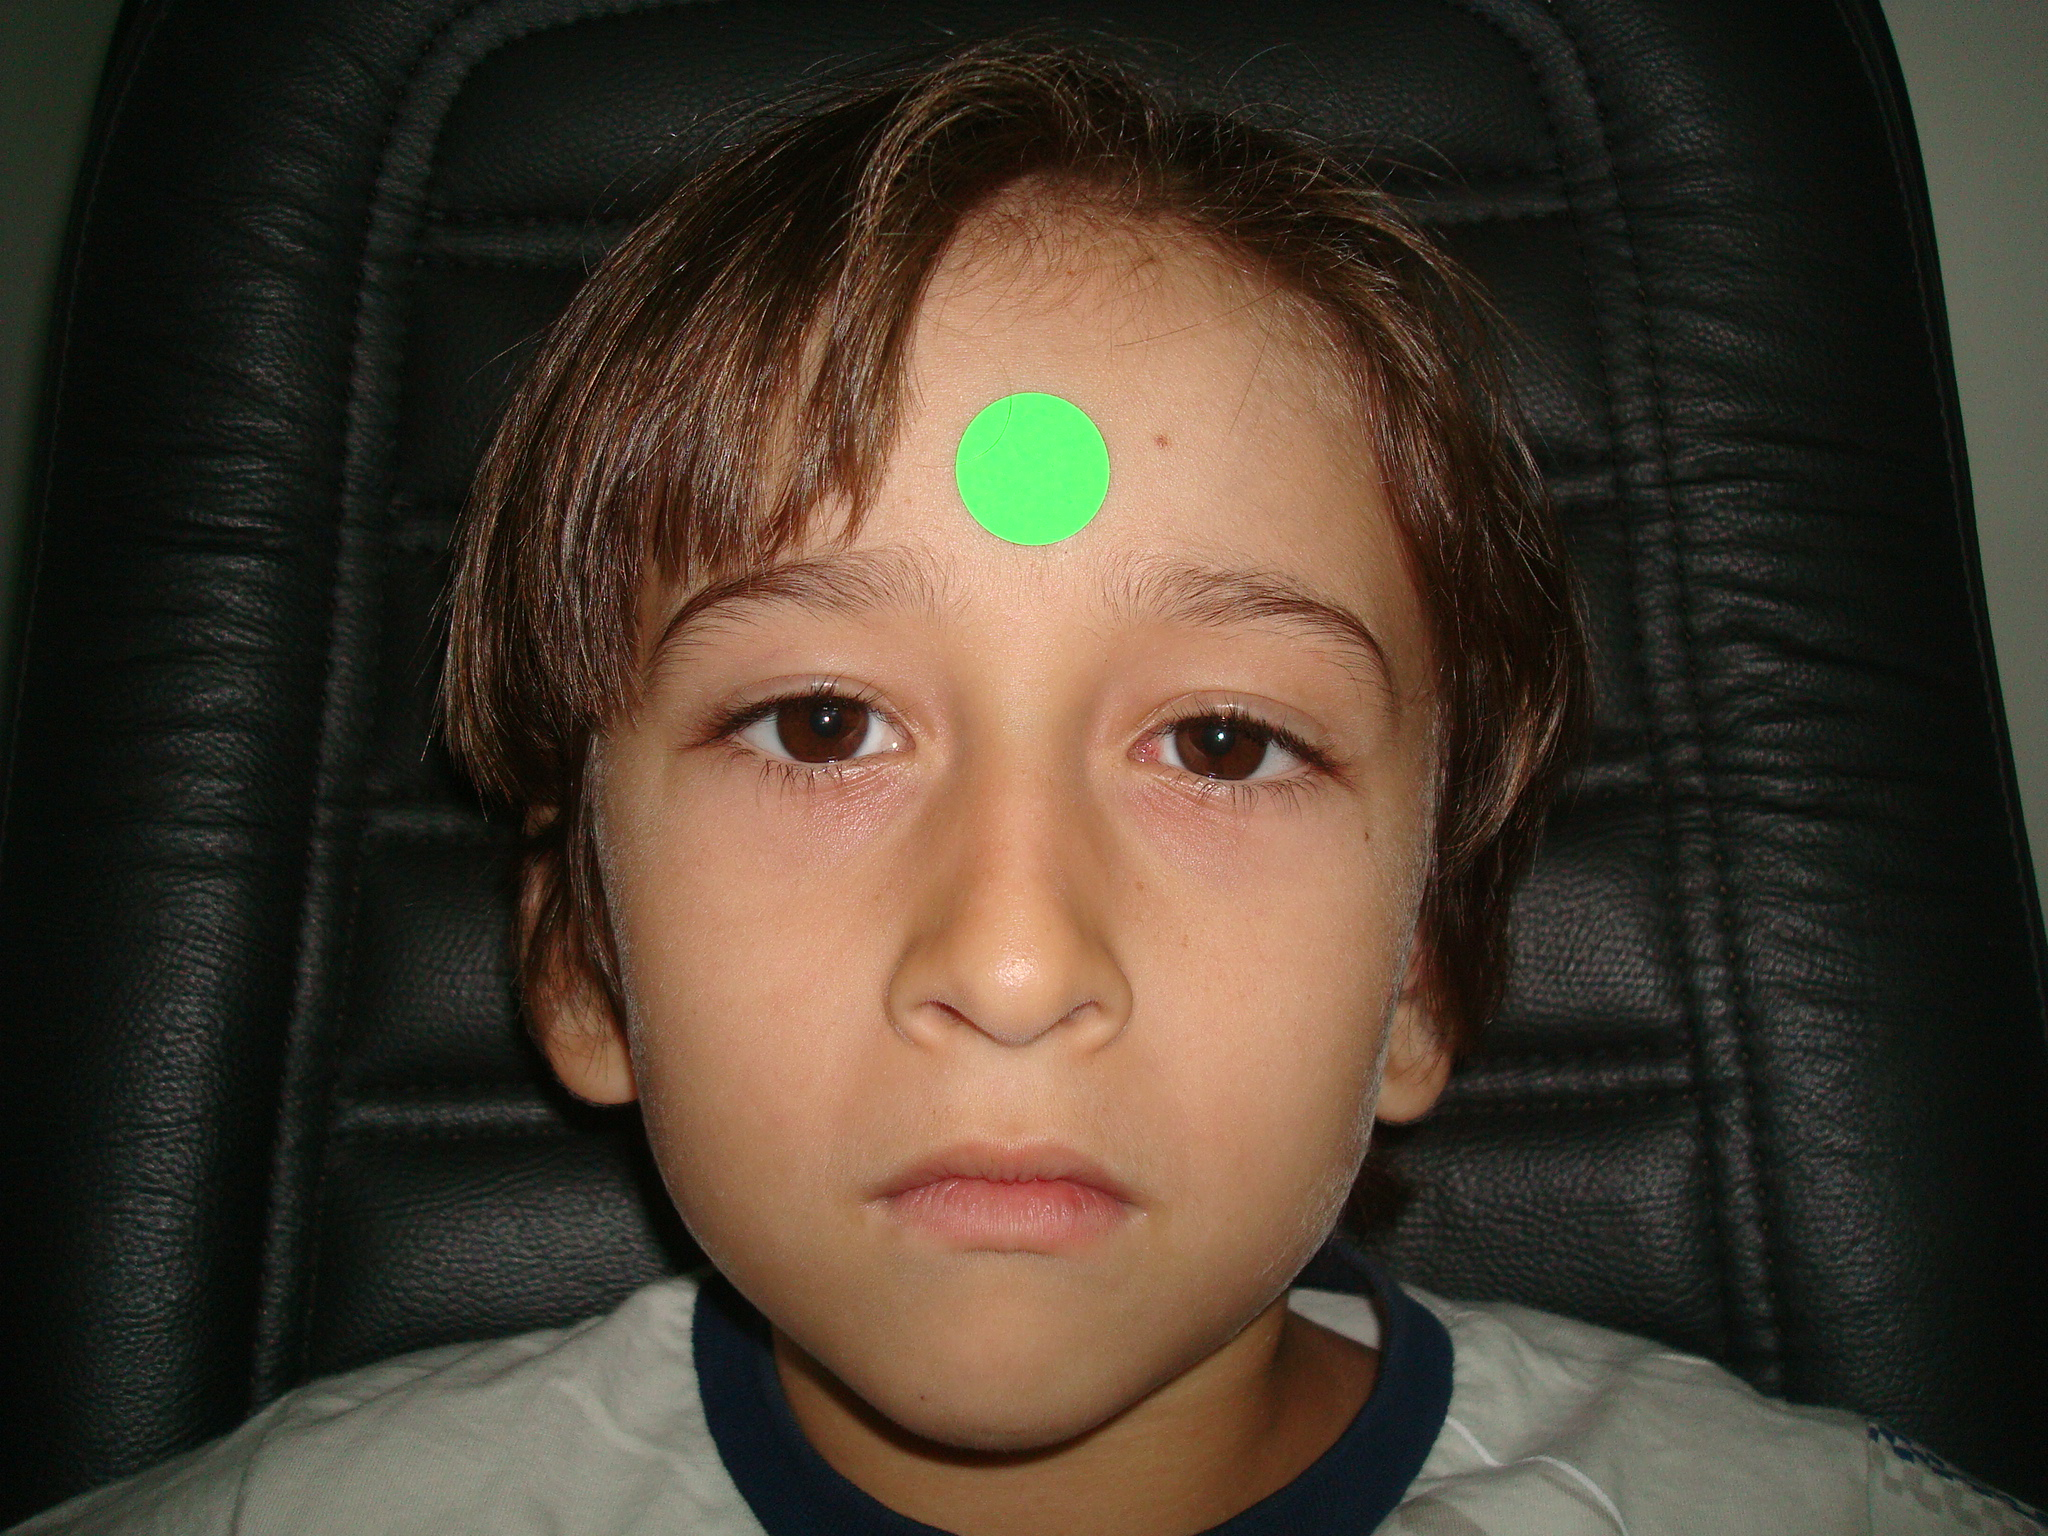flash: (819, 713, 834, 724), (1214, 731, 1229, 741)
limbo: (1171, 697, 1268, 783), (772, 682, 871, 766)
